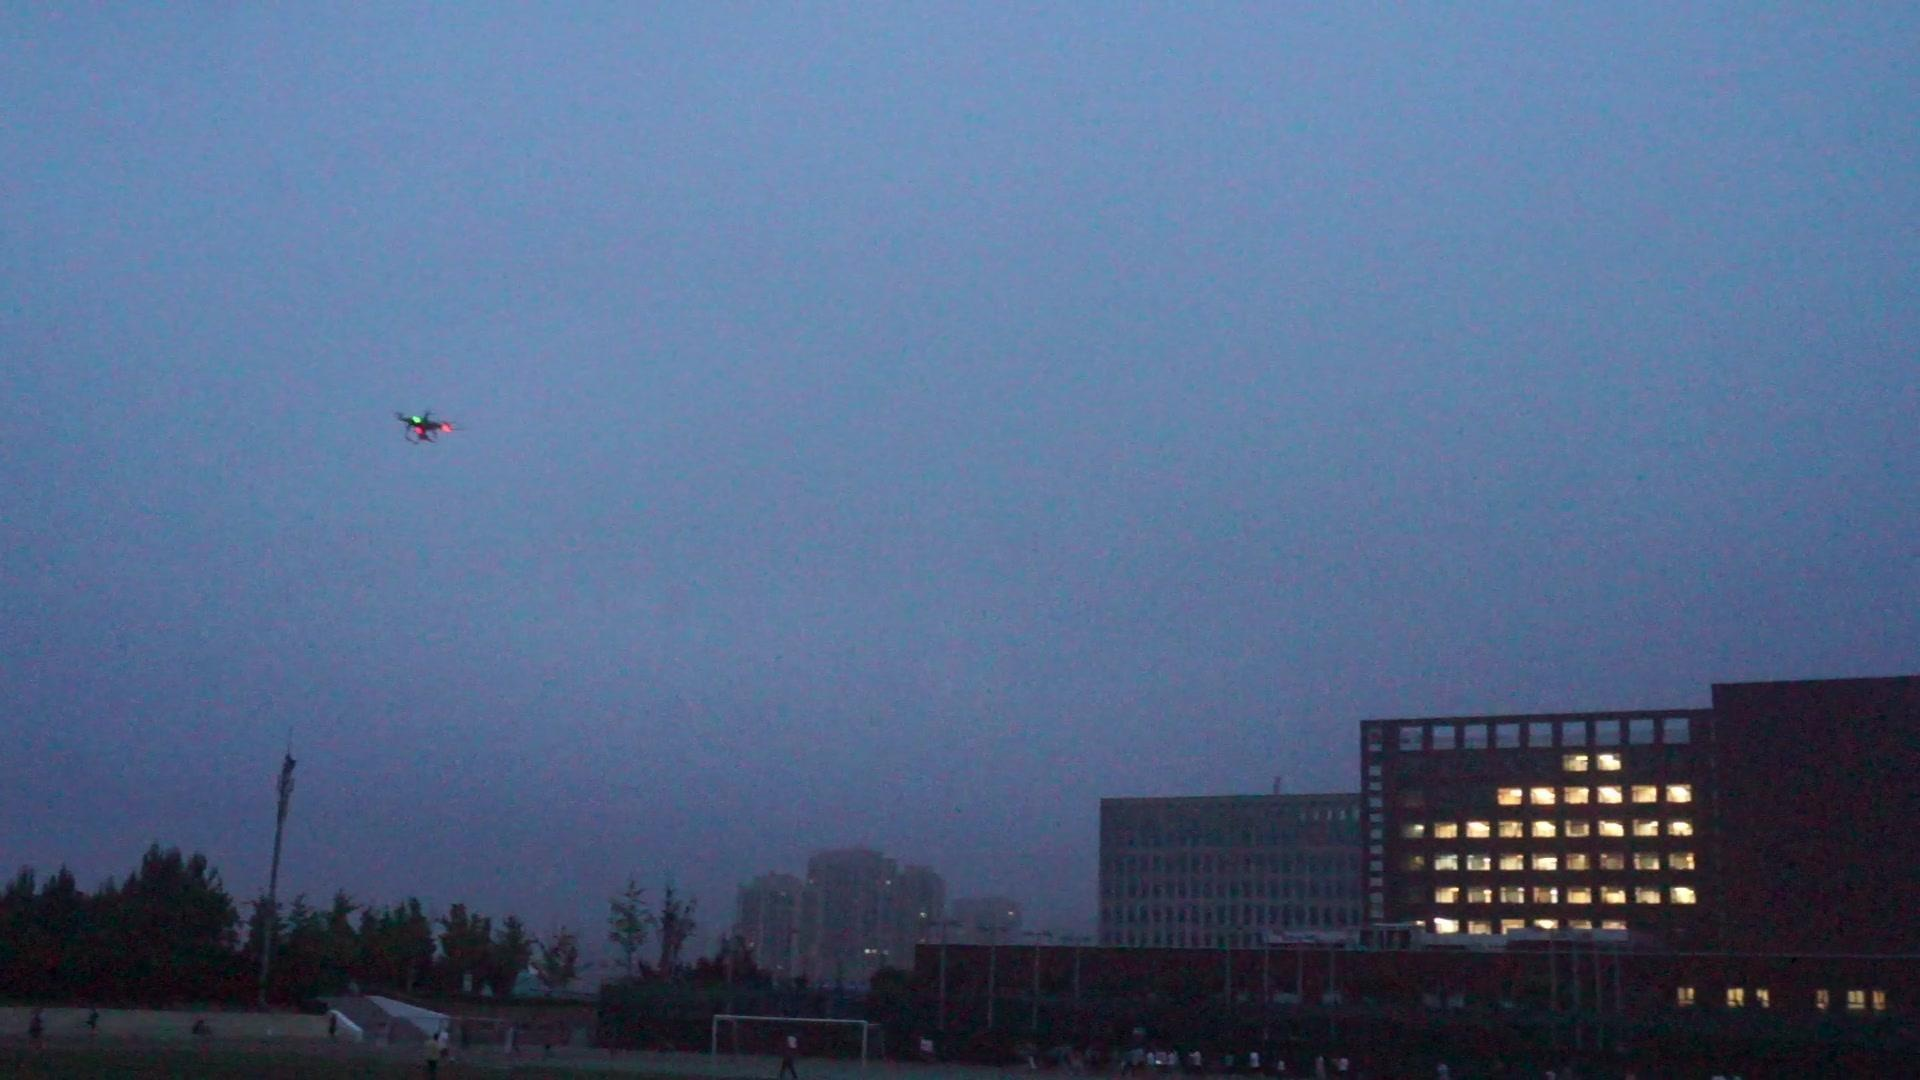UAV: (393, 410, 458, 446)
